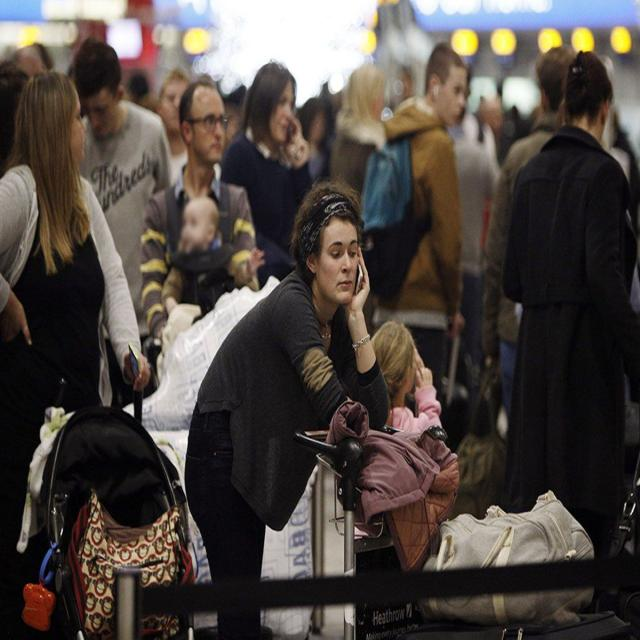body: (0, 43, 639, 213), (181, 177, 392, 639), (0, 65, 153, 639), (500, 48, 640, 556), (481, 43, 579, 522), (364, 41, 469, 435), (72, 35, 175, 410), (140, 70, 262, 340), (219, 58, 315, 291), (161, 196, 267, 317), (326, 65, 390, 222), (368, 317, 446, 440)
